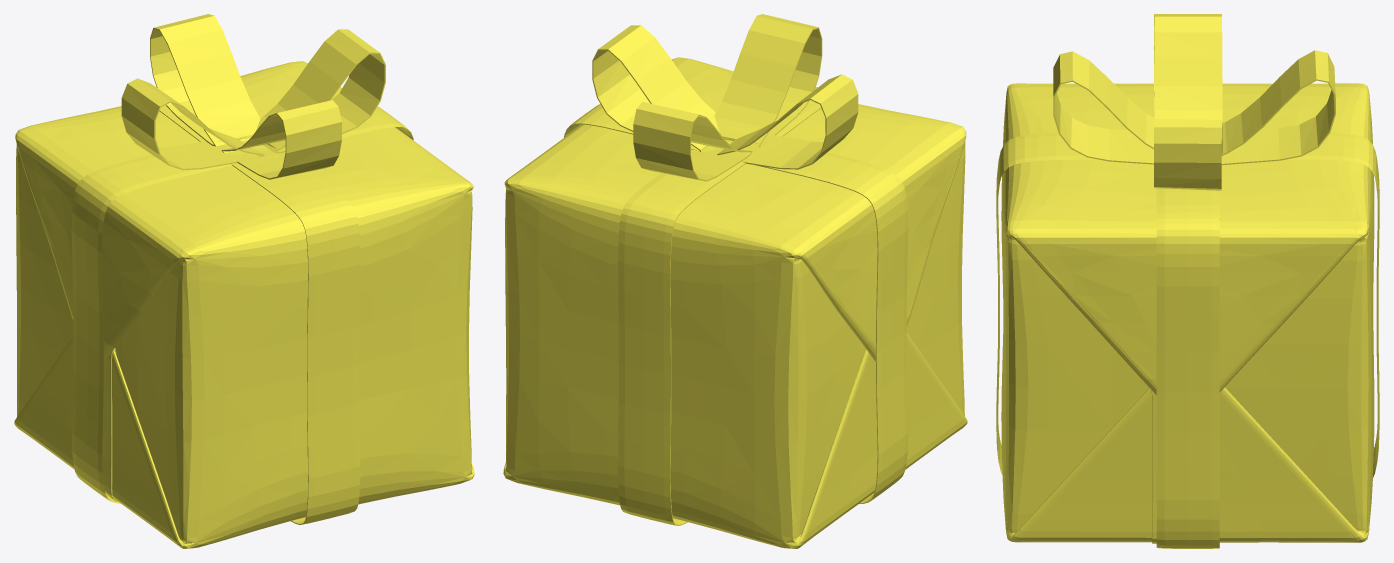
Rendered from gift_1.gltf.
The picture shows the model from 3 angles, left to right: view 1: azimuth 30°, elevation 25°; view 2: azimuth 150°, elevation 25°; view 3: azimuth 270°, elevation 25°; orthographic projection. The views are drawn at different scales.
Visible parts, largest first — view 1: 方盒子; view 2: 方盒子; view 3: 方盒子.
Boxes of the visible parts, bbox=[...] form: 方盒子: bbox=[14, 14, 474, 548]; 方盒子: bbox=[503, 14, 967, 548]; 方盒子: bbox=[996, 14, 1379, 548].
Bounding box in the file's own units: 68.91 × 82.66 × 68.91.
